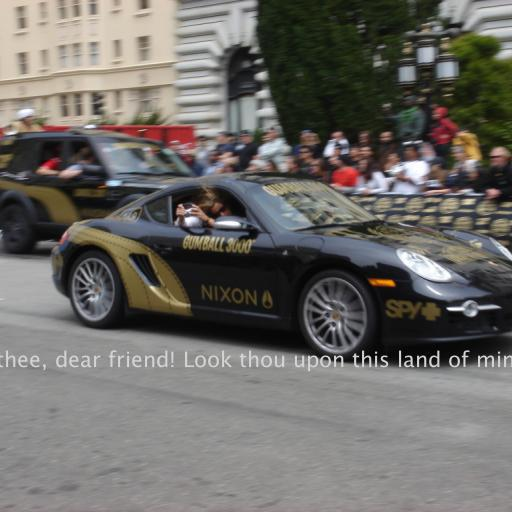Lucida Grande: (0, 350, 512, 372)
